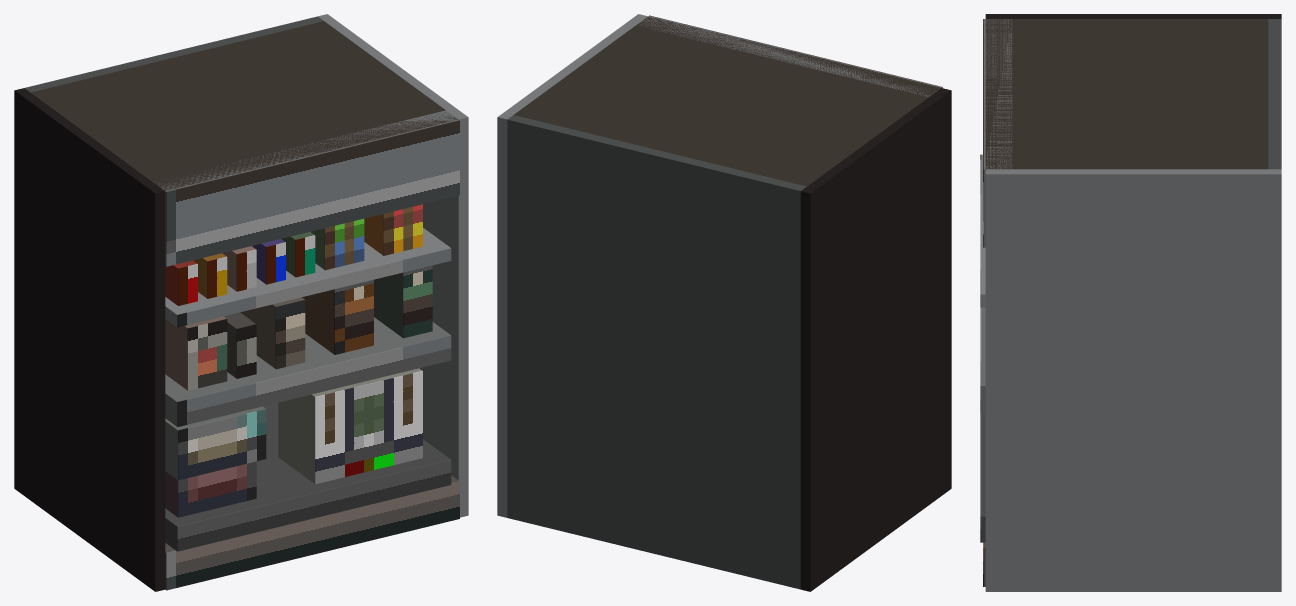
File: CMU3DVendorMedicalGearCloud.glb
The picture shows the model from 3 angles, left to right: view 1: azimuth 30°, elevation 25°; view 2: azimuth 150°, elevation 25°; view 3: azimuth 270°, elevation 25°; orthographic projection. The views are drawn at different scales.
Parts seen in each view (by area): view 1: left full-depth cabinet wall, roof, silver medical header original face, right full-depth cabinet wall, bottom medical plinth original face, large white and blue medical equipment original face, full-depth medical shelf 3 original face, full-depth medical shelf 2 original face, full-depth medical shelf 3, lower folded white kit original face, full-depth medical shelf 2, full-depth medical shelf 1 original face (+26 smaller); view 2: solid rear wall, left full-depth cabinet wall, roof, right full-depth cabinet wall, silver medical header; view 3: right full-depth cabinet wall, roof, silver medical header, solid rear wall, left full-depth cabinet wall, full-depth medical shelf 3, full-depth medical shelf 2, full-depth medical shelf 1.
Part boxes in pixels (box(x1,y1,x2,y2)): left full-depth cabinet wall: box(14, 88, 165, 591); roof: box(31, 21, 457, 190); silver medical header original face: box(166, 120, 459, 266); right full-depth cabinet wall: box(318, 14, 468, 517); bottom medical plinth original face: box(166, 481, 459, 590); large white and blue medical equipment original face: box(315, 371, 422, 484); full-depth medical shelf 3 original face: box(177, 460, 451, 551); full-depth medical shelf 2 original face: box(177, 335, 451, 426); full-depth medical shelf 3: box(165, 403, 450, 550); lower folded white kit original face: box(178, 409, 266, 480); full-depth medical shelf 2: box(165, 317, 450, 426); full-depth medical shelf 1 original face: box(177, 248, 451, 327); solid rear wall: box(507, 115, 806, 589); left full-depth cabinet wall: box(800, 88, 951, 591); roof: box(514, 16, 941, 186); right full-depth cabinet wall: box(497, 14, 647, 517); silver medical header: box(636, 15, 942, 96); right full-depth cabinet wall: box(985, 169, 1281, 591); roof: box(985, 19, 1268, 169); silver medical header: box(984, 19, 1012, 247); solid rear wall: box(1268, 19, 1281, 169); left full-depth cabinet wall: box(985, 14, 1281, 18); full-depth medical shelf 3: box(981, 412, 985, 542); full-depth medical shelf 2: box(981, 307, 985, 412); full-depth medical shelf 1: box(981, 154, 985, 307).
Bounding box in the file's own units: 1 × 1.22 × 0.794.
Materials: 50 (22 with a texture image).
